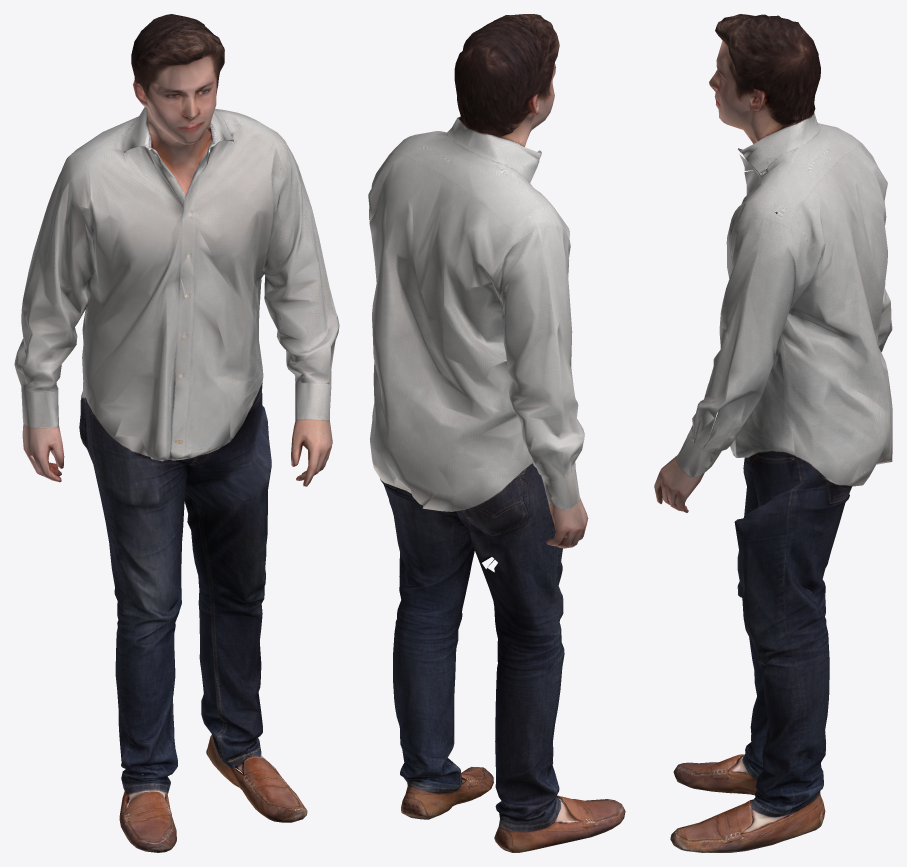
Rendered from nanren1.glb.
3 renders of one model, left to right at view 1: azimuth 30°, elevation 25°; view 2: azimuth 150°, elevation 25°; view 3: azimuth 270°, elevation 25°, orthographic. The views are drawn at different scales.
Visible parts, largest first — view 1: nanren1; view 2: nanren1; view 3: nanren1.
Part boxes in pixels (<box>): nanren1: <box>14,14,339,852</box>; nanren1: <box>368,14,625,852</box>; nanren1: <box>654,14,892,852</box>.
Size of the model in its own units: 0.6385 by 1.89 by 0.516.
Materials: 1 (1 with a texture image).
